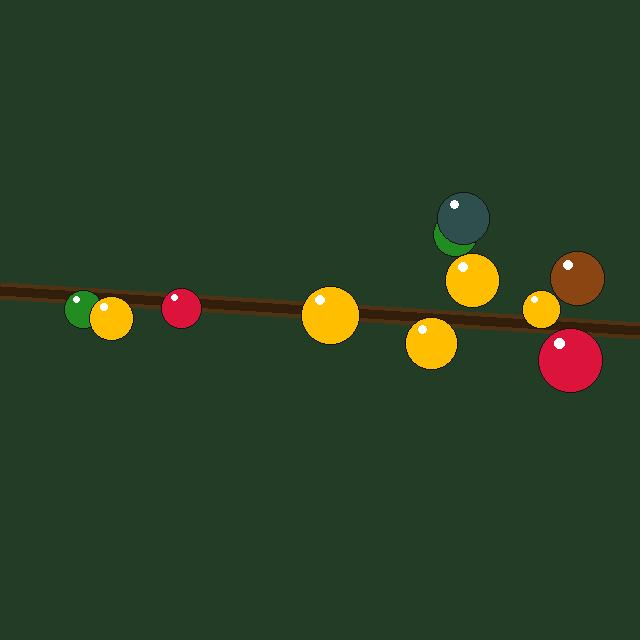Dry_Damaged: (437, 192, 489, 244)
Overripe: (550, 251, 604, 305)
Ripe: (538, 328, 602, 392), (161, 288, 201, 328)
Ripening: (301, 286, 359, 344), (445, 253, 499, 307), (405, 317, 457, 369), (89, 296, 133, 340), (522, 290, 560, 328)
Unripe: (433, 212, 477, 256), (64, 290, 102, 328)
